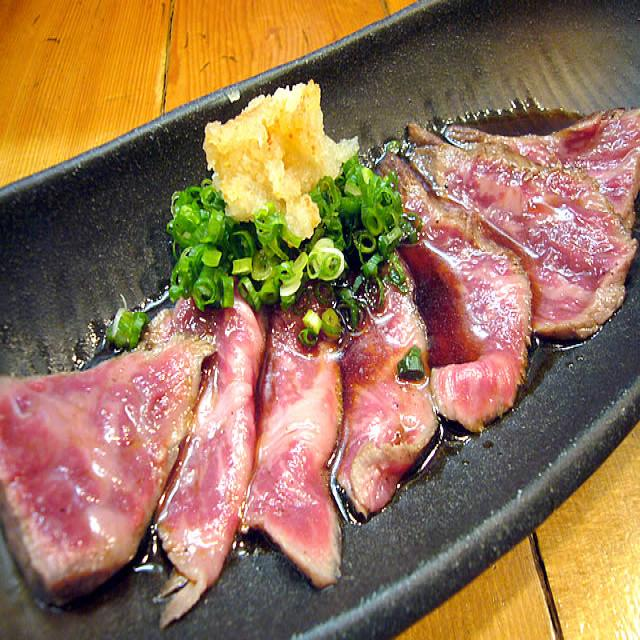熟制海鲜: (0, 80, 640, 599)
